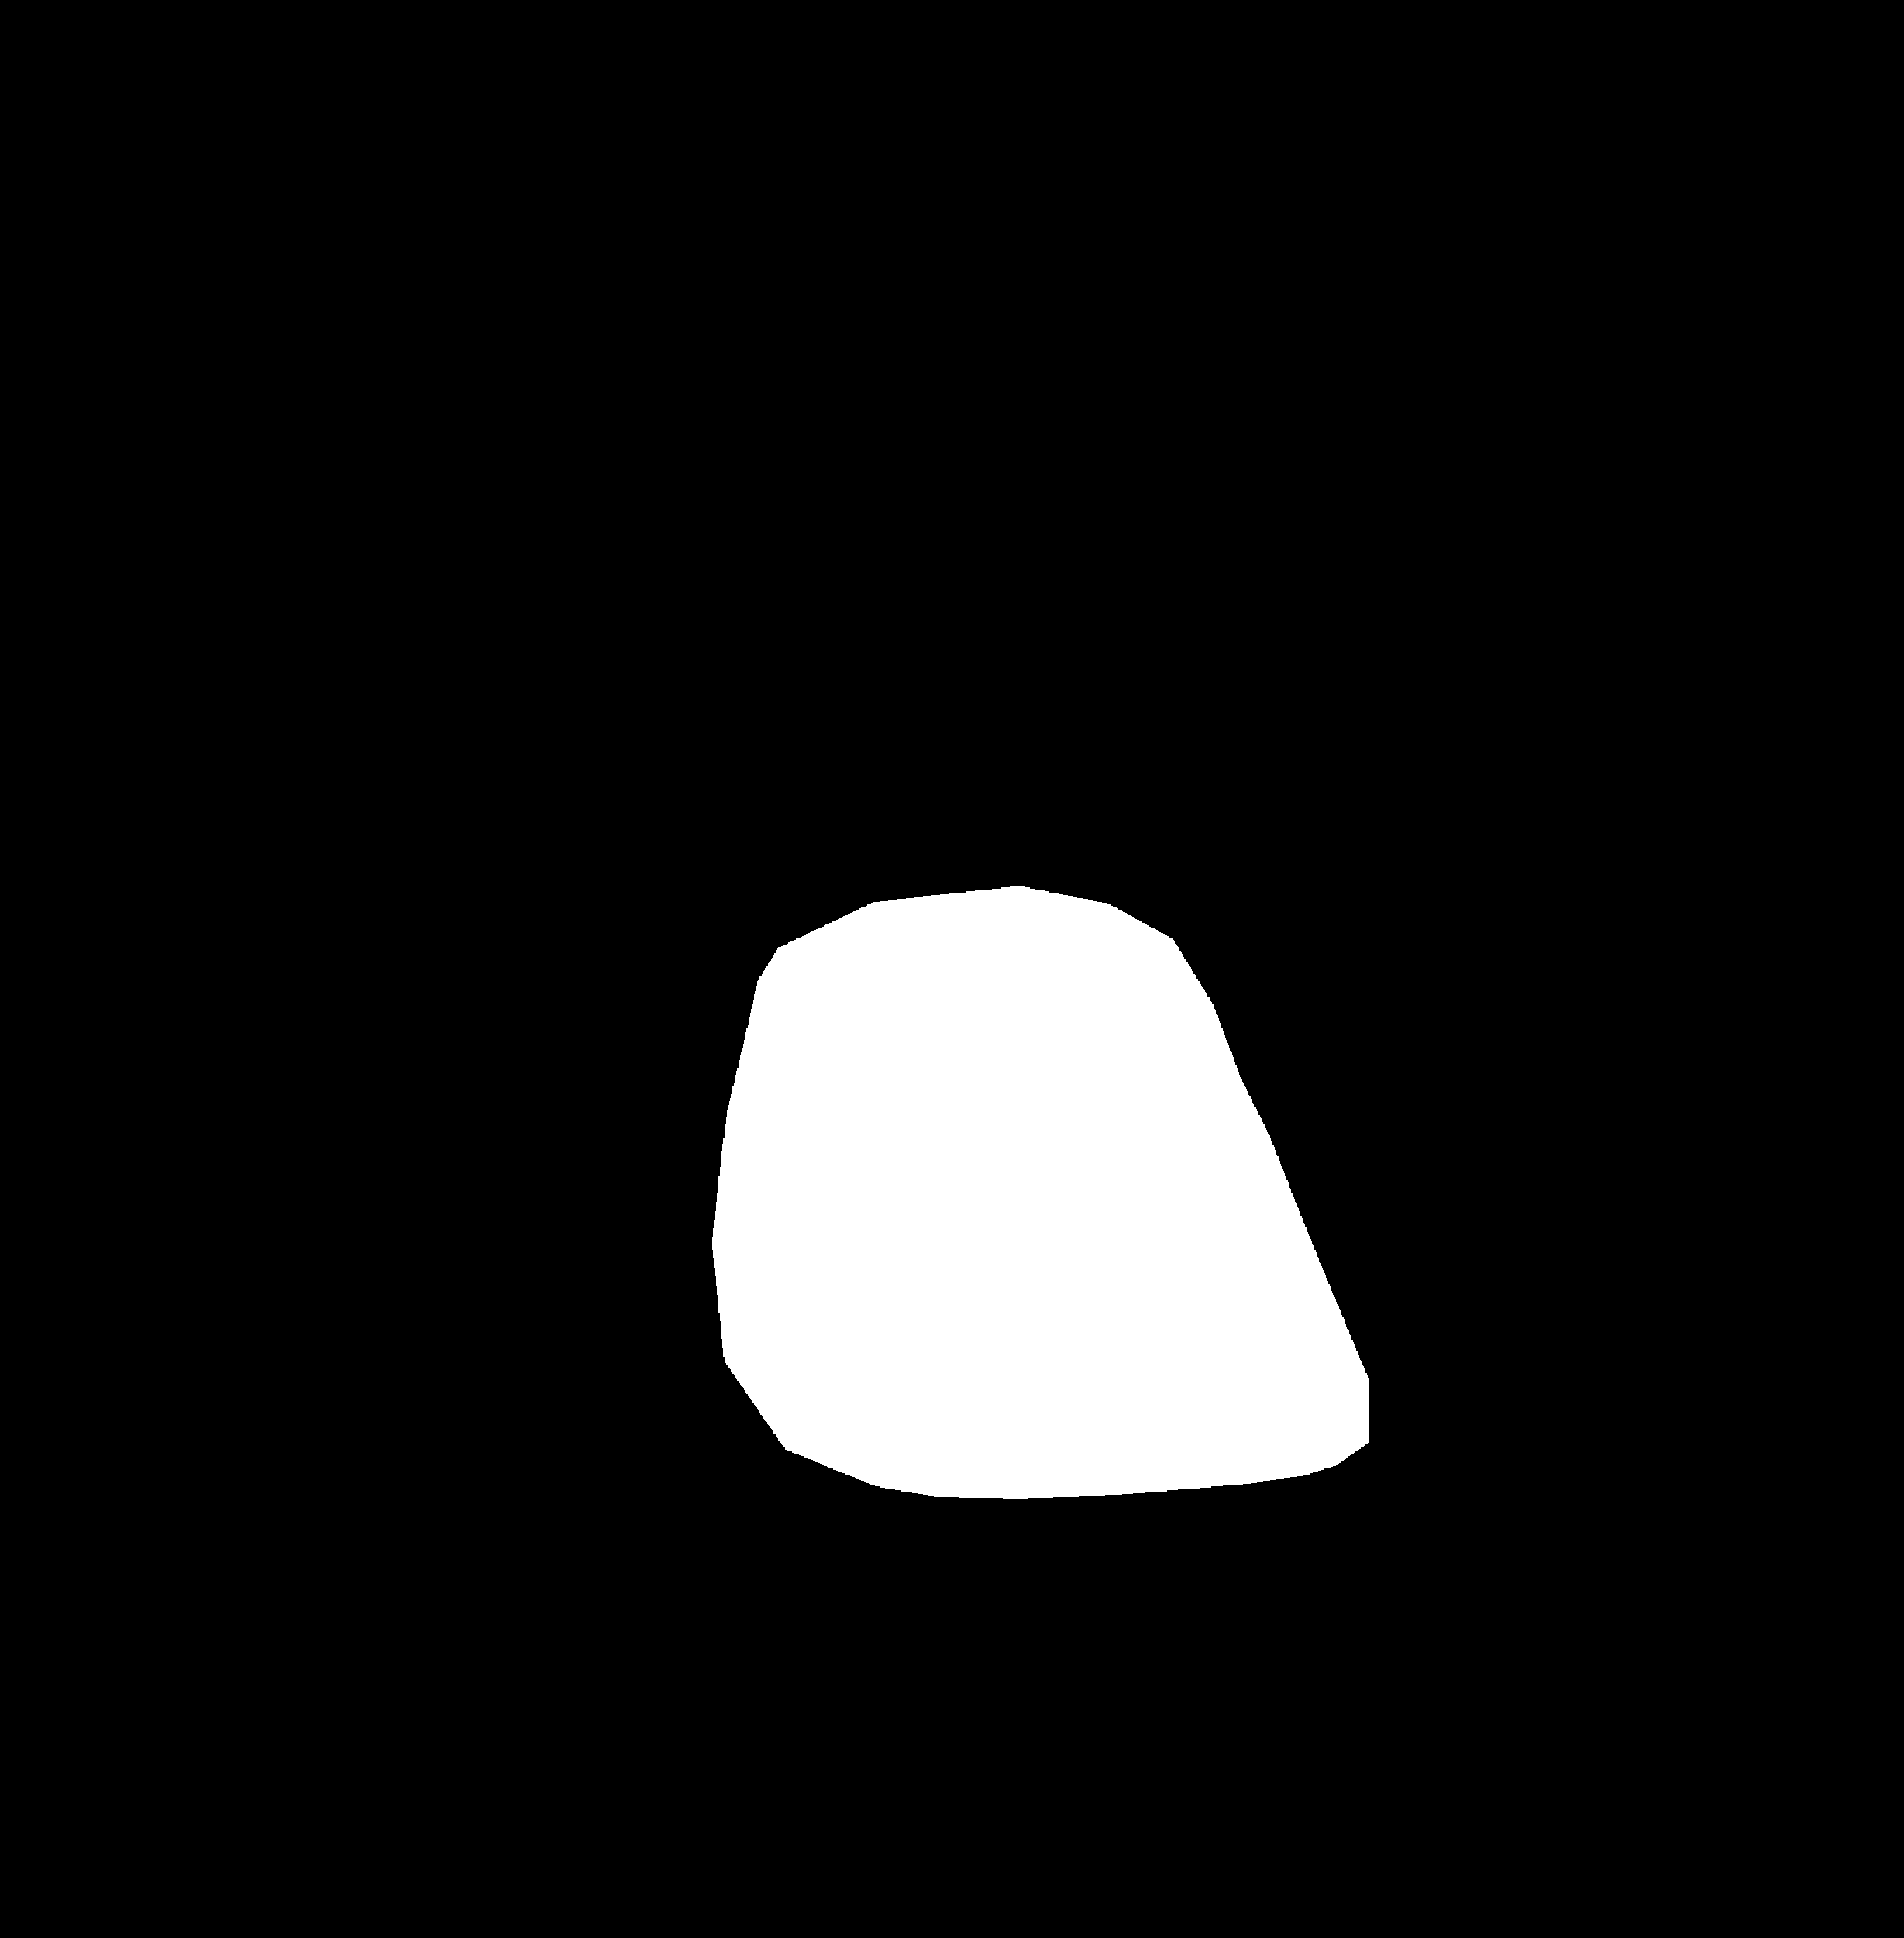heart: (713, 1006, 1348, 1450)
left_lung: (188, 263, 875, 1469)
right_lung: (1013, 281, 1670, 1628)
